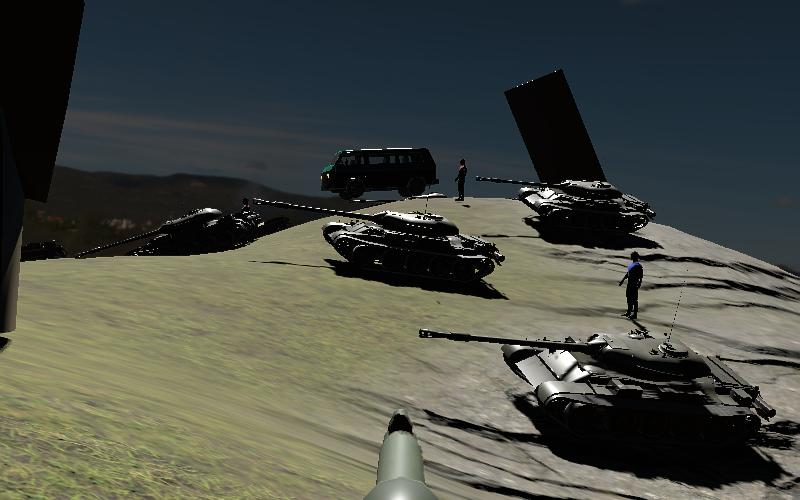Human: (618, 250, 645, 321)
Tank: (418, 320, 778, 461), (263, 200, 506, 290), (474, 174, 659, 246), (86, 199, 251, 262)
car: (319, 145, 440, 201)
